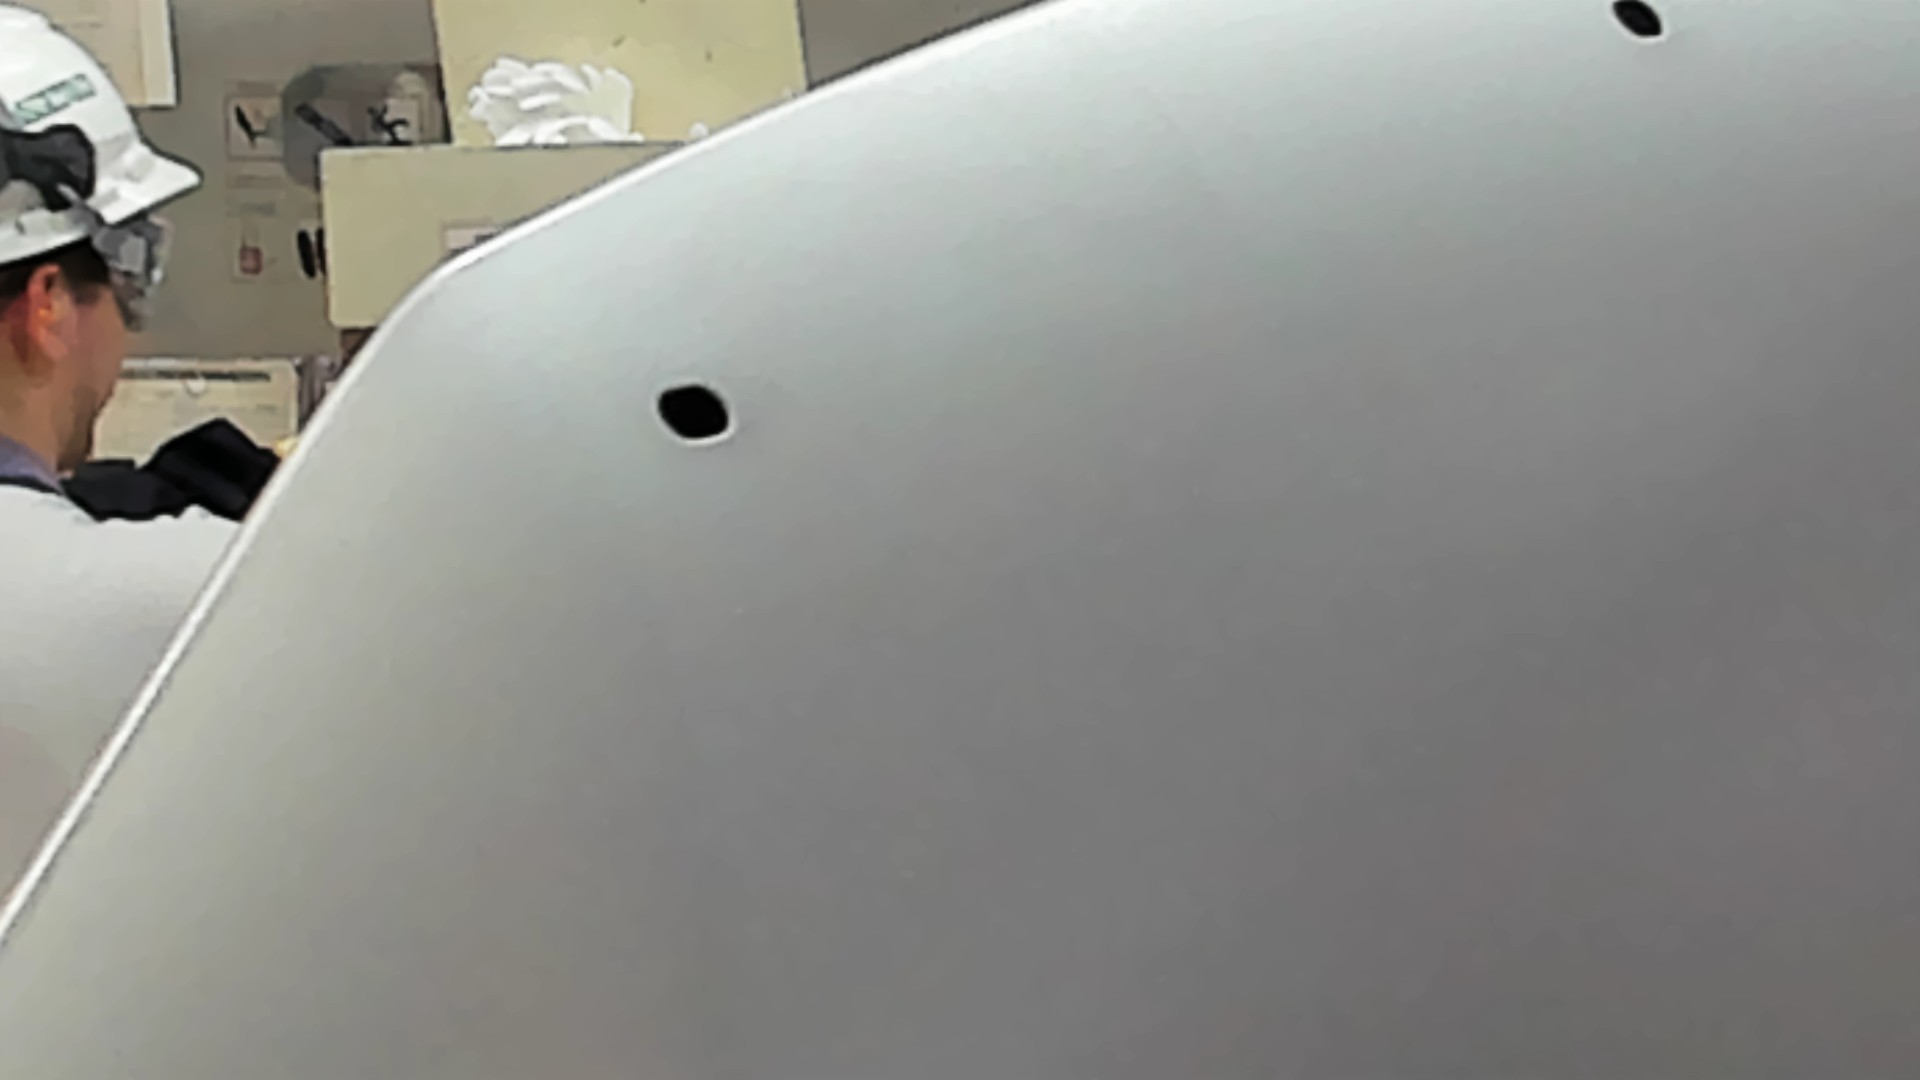Agujero: (651, 377, 738, 450), (1604, 1, 1673, 45)
